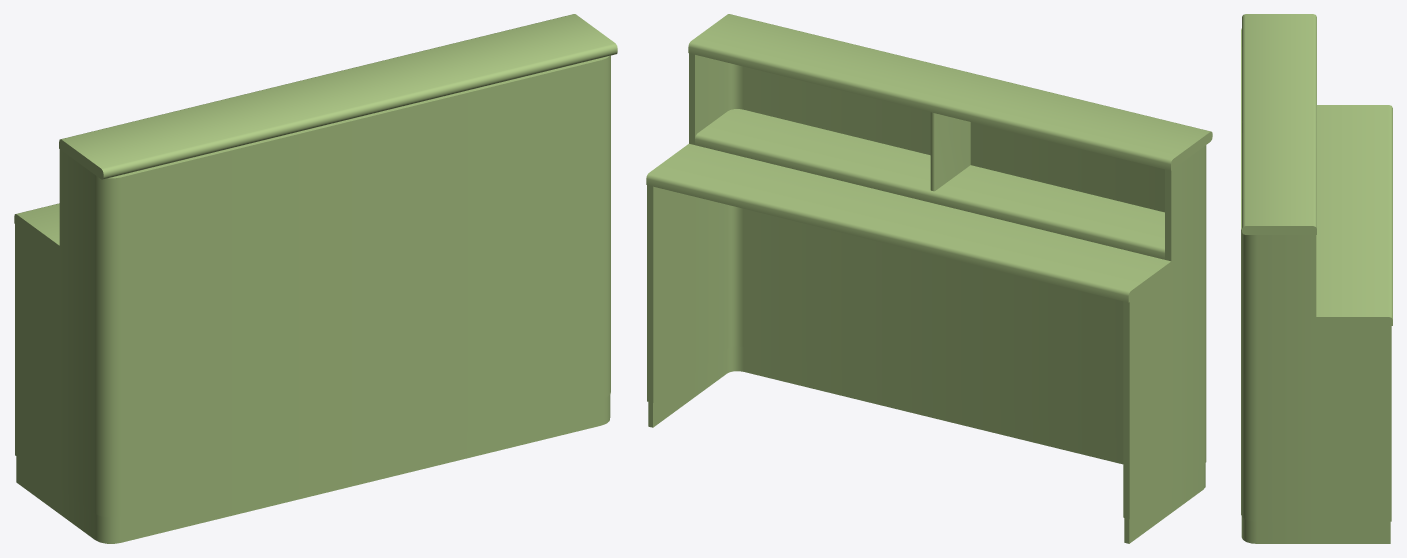
The model's file is Shelf_3.fbx.
3 renders of one model, left to right at view 1: azimuth 30°, elevation 25°; view 2: azimuth 150°, elevation 25°; view 3: azimuth 270°, elevation 25°, orthographic. The views are drawn at different scales.
Parts seen in each view (by area): view 1: SM_Shelf_3; view 2: SM_Shelf_3; view 3: SM_Shelf_3.
Part boxes in pixels (box(x1,y1,x2,y2)): SM_Shelf_3: box(14, 14, 617, 543); SM_Shelf_3: box(646, 14, 1212, 543); SM_Shelf_3: box(1241, 14, 1392, 543).
Bounding box in the file's own units: 200 × 140 × 60.58.
